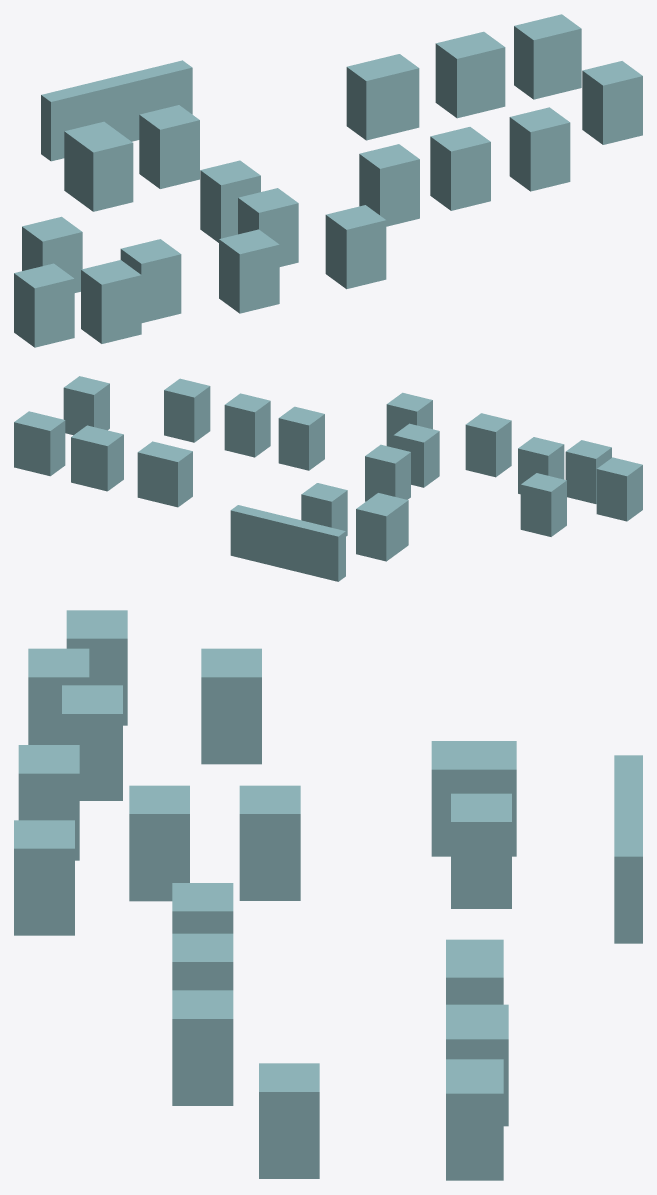
File: samplefloor4.gltf
3 views of the same model, one above another, from view 1: azimuth 30°, elevation 25°; view 2: azimuth 150°, elevation 25°; view 3: azimuth 270°, elevation 25° (orthographic). The views are drawn at different scales.
Parts seen in each view (by area): view 1: Mesh_Mesh_head_geo.001_lambert2SG.001; view 2: Mesh_Mesh_head_geo.001_lambert2SG.001; view 3: Mesh_Mesh_head_geo.001_lambert2SG.001.
Part boxes in pixels (<box>): Mesh_Mesh_head_geo.001_lambert2SG.001: <box>14,14,642,347</box>; Mesh_Mesh_head_geo.001_lambert2SG.001: <box>14,376,642,581</box>; Mesh_Mesh_head_geo.001_lambert2SG.001: <box>14,610,642,1180</box>.
Size of the model in its own units: 238 by 20 by 131.
